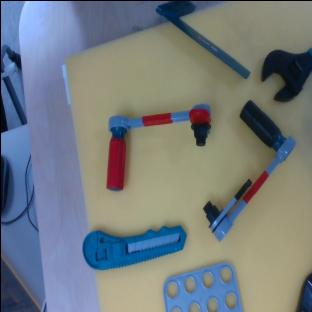non_pass: (168, 98, 300, 241)
pass: (77, 73, 223, 194)
